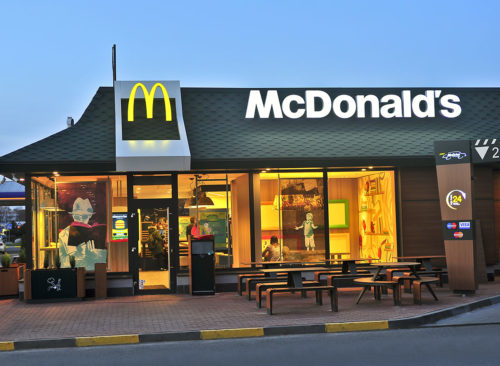mcdonalds: (124, 79, 176, 125)
